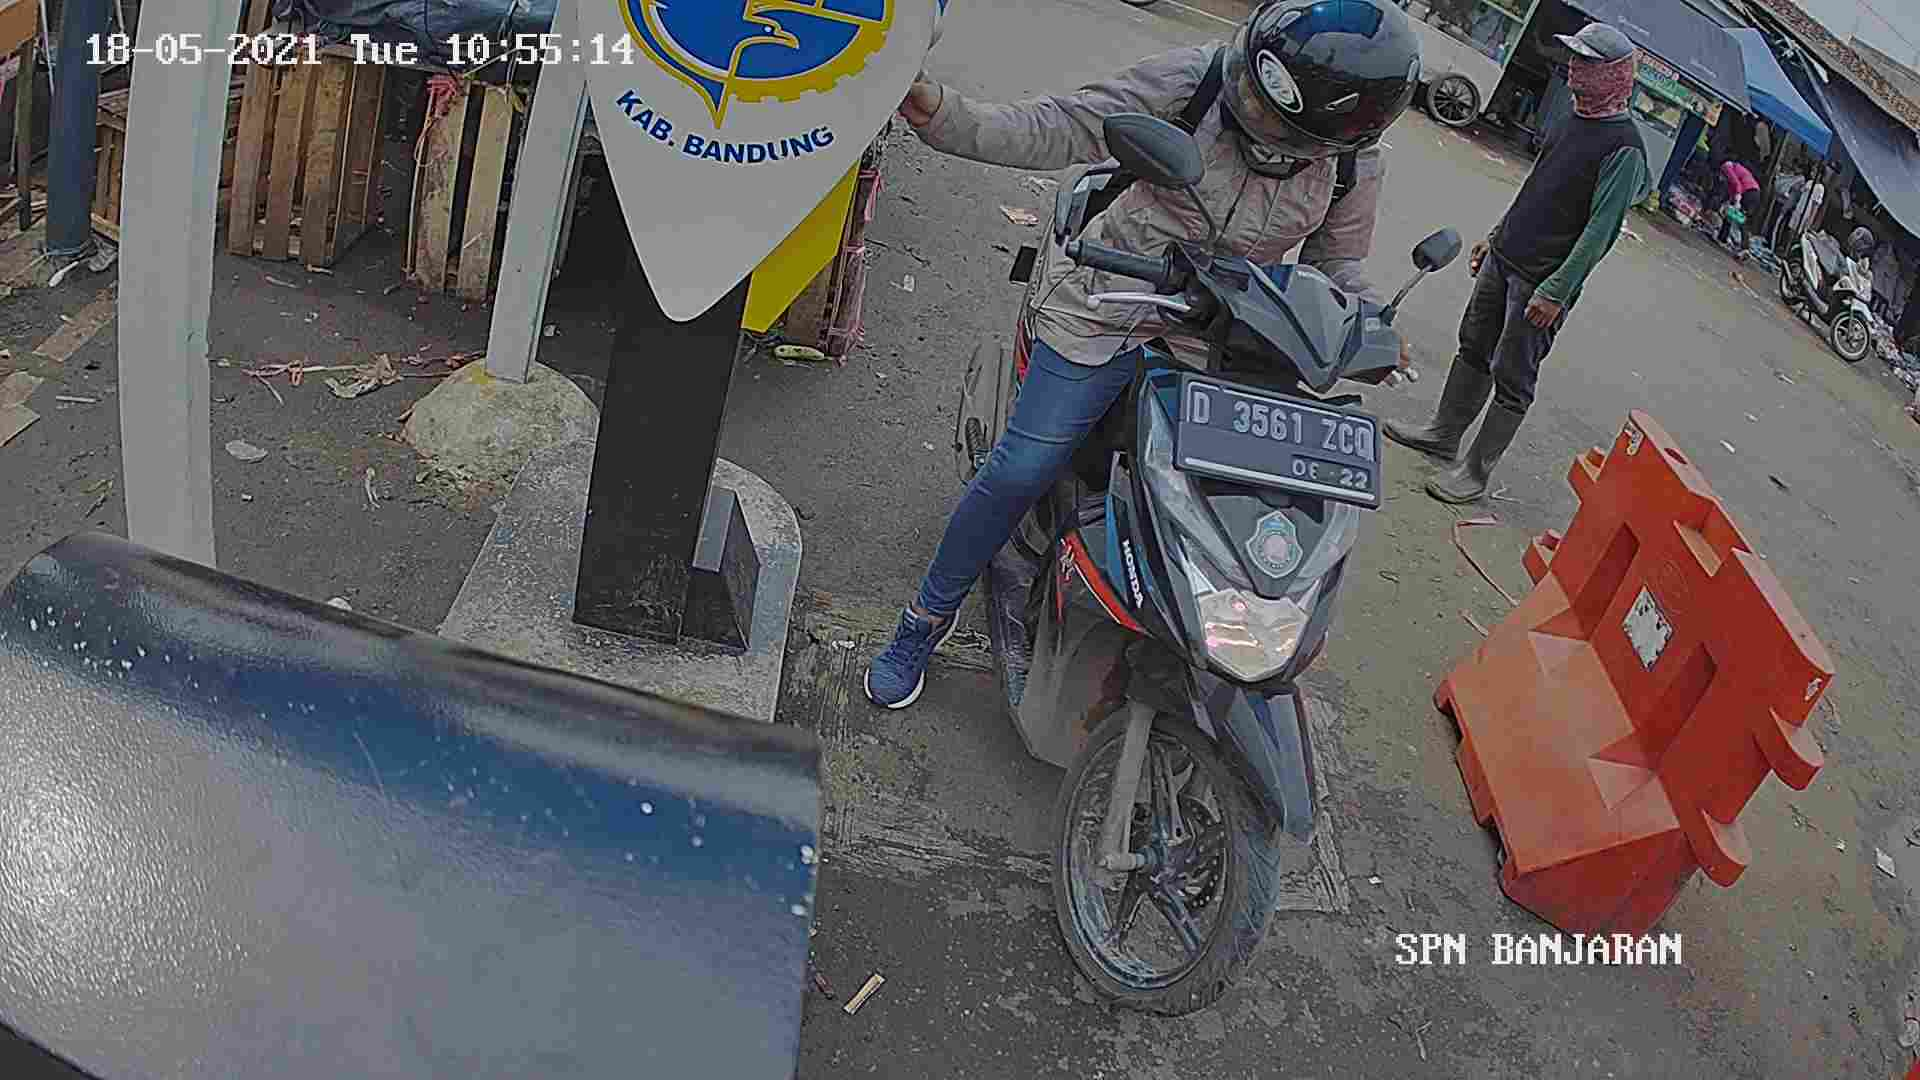motor: (935, 203, 1460, 985)
